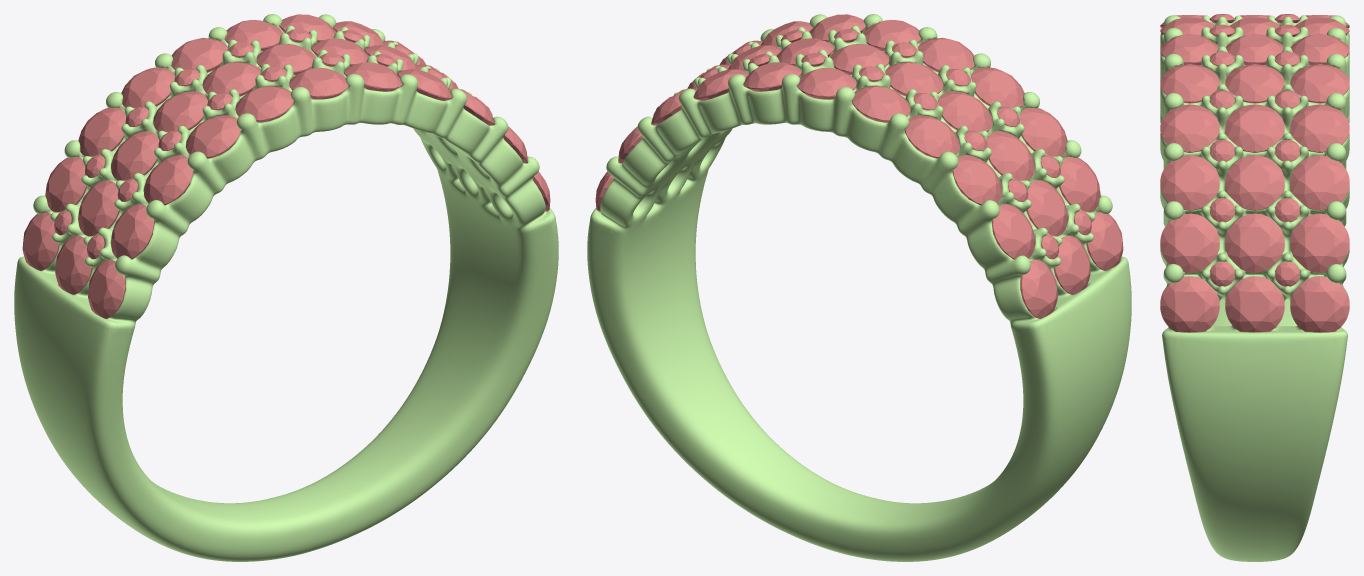
The model's file is BE2D360LC_RENDER.glb.
3 views of the same model, side by side, from view 1: azimuth 30°, elevation 25°; view 2: azimuth 150°, elevation 25°; view 3: azimuth 270°, elevation 25° (orthographic).
Parts seen in each view (by area): view 1: Metal03, Diamond_Round_Gem_BD.014, Diamond_Round_Gem_BD.013, Diamond_Round_Gem_BD.015, Diamond_Round_Gem_BD.020, Diamond_Round_Gem_BD.008, Diamond_Round_Gem_BD.009, Diamond_Round_Gem_BD.017, Diamond_Round_Gem_BD.011, Diamond_Round_Gem_BD.016, Diamond_Round_Gem_BD.007, Diamond_Round_Gem_BD.012 (+11 smaller); view 2: Metal03, Diamond_Round_Gem_BD.008, Diamond_Round_Gem_BD.009, Diamond_Round_Gem_BD.015, Diamond_Round_Gem_BD.020, Diamond_Round_Gem_BD.014, Diamond_Round_Gem_BD.013, Diamond_Round_Gem_BD.007, Diamond_Round_Gem_BD.010, Diamond_Round_Gem_BD.016, Diamond_Round_Gem_BD.017, Diamond_Round_Gem_BD.012 (+11 smaller); view 3: Metal03, Diamond_Round_Gem_BD.021, Diamond_Round_Gem_BD.031, Diamond_Round_Gem_BD, Diamond_Round_Gem_BD.032, Diamond_Round_Gem_BD.001, Diamond_Round_Gem_BD.030, Diamond_Round_Gem_BD.028, Diamond_Round_Gem_BD.002, Diamond_Round_Gem_BD.029, Diamond_Round_Gem_BD.027, Diamond_Round_Gem_BD.003 (+20 smaller).
Part boxes in pixels (x1,y1,x2,y2): Metal03: (14,14,558,561); Diamond_Round_Gem_BD.014: (143,155,193,205); Diamond_Round_Gem_BD.013: (110,204,153,259); Diamond_Round_Gem_BD.015: (111,131,159,180); Diamond_Round_Gem_BD.020: (78,180,119,236); Diamond_Round_Gem_BD.008: (78,107,125,156); Diamond_Round_Gem_BD.009: (45,156,86,212); Diamond_Round_Gem_BD.017: (186,115,240,158); Diamond_Round_Gem_BD.011: (88,259,125,318); Diamond_Round_Gem_BD.016: (153,91,207,132); Diamond_Round_Gem_BD.007: (121,67,174,108); Diamond_Round_Gem_BD.012: (55,235,92,294); Metal03: (587,14,1131,561); Diamond_Round_Gem_BD.008: (952,155,1002,205); Diamond_Round_Gem_BD.009: (992,204,1035,259); Diamond_Round_Gem_BD.015: (987,131,1034,180); Diamond_Round_Gem_BD.020: (1026,180,1067,236); Diamond_Round_Gem_BD.014: (1020,107,1067,156); Diamond_Round_Gem_BD.013: (1059,156,1100,212); Diamond_Round_Gem_BD.007: (905,115,959,158); Diamond_Round_Gem_BD.010: (1020,259,1057,318); Diamond_Round_Gem_BD.016: (938,91,992,132); Diamond_Round_Gem_BD.017: (971,67,1024,108); Diamond_Round_Gem_BD.012: (1053,235,1090,294); Metal03: (1160,15,1349,561); Diamond_Round_Gem_BD.021: (1225,213,1284,272); Diamond_Round_Gem_BD.031: (1225,276,1284,332); Diamond_Round_Gem_BD: (1290,276,1349,332); Diamond_Round_Gem_BD.032: (1160,276,1219,332); Diamond_Round_Gem_BD.001: (1290,213,1349,272); Diamond_Round_Gem_BD.030: (1160,213,1219,272); Diamond_Round_Gem_BD.028: (1225,155,1284,210); Diamond_Round_Gem_BD.002: (1290,155,1349,210); Diamond_Round_Gem_BD.029: (1160,155,1219,210); Diamond_Round_Gem_BD.027: (1225,104,1284,152); Diamond_Round_Gem_BD.003: (1290,104,1349,152).
Size of the model in its own units: 20.28 by 20.24 by 7.
